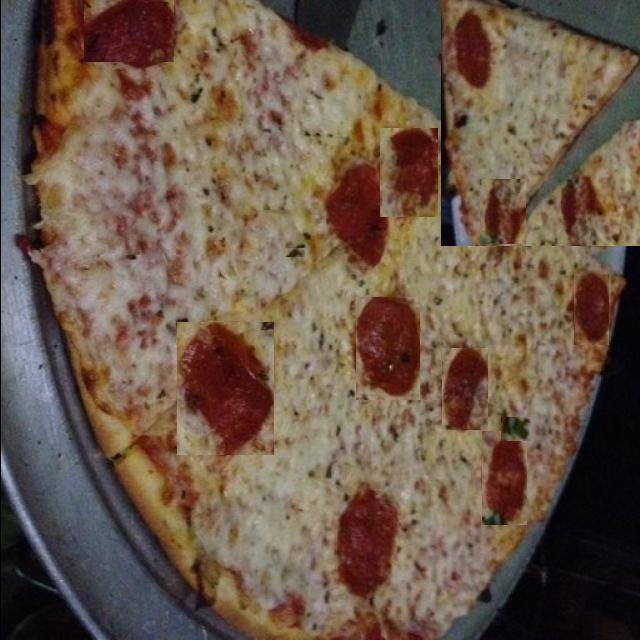basil: (500, 417, 533, 441), (284, 248, 304, 257)
pepperoni: (176, 322, 273, 455), (326, 163, 390, 269), (334, 491, 396, 599), (355, 298, 419, 402), (83, 0, 173, 62), (379, 128, 437, 217), (481, 431, 526, 525), (441, 348, 487, 430), (479, 179, 525, 244), (589, 12, 624, 88), (573, 274, 608, 345), (274, 458, 290, 461)
pizza: (29, 0, 623, 640), (440, 0, 640, 246)
